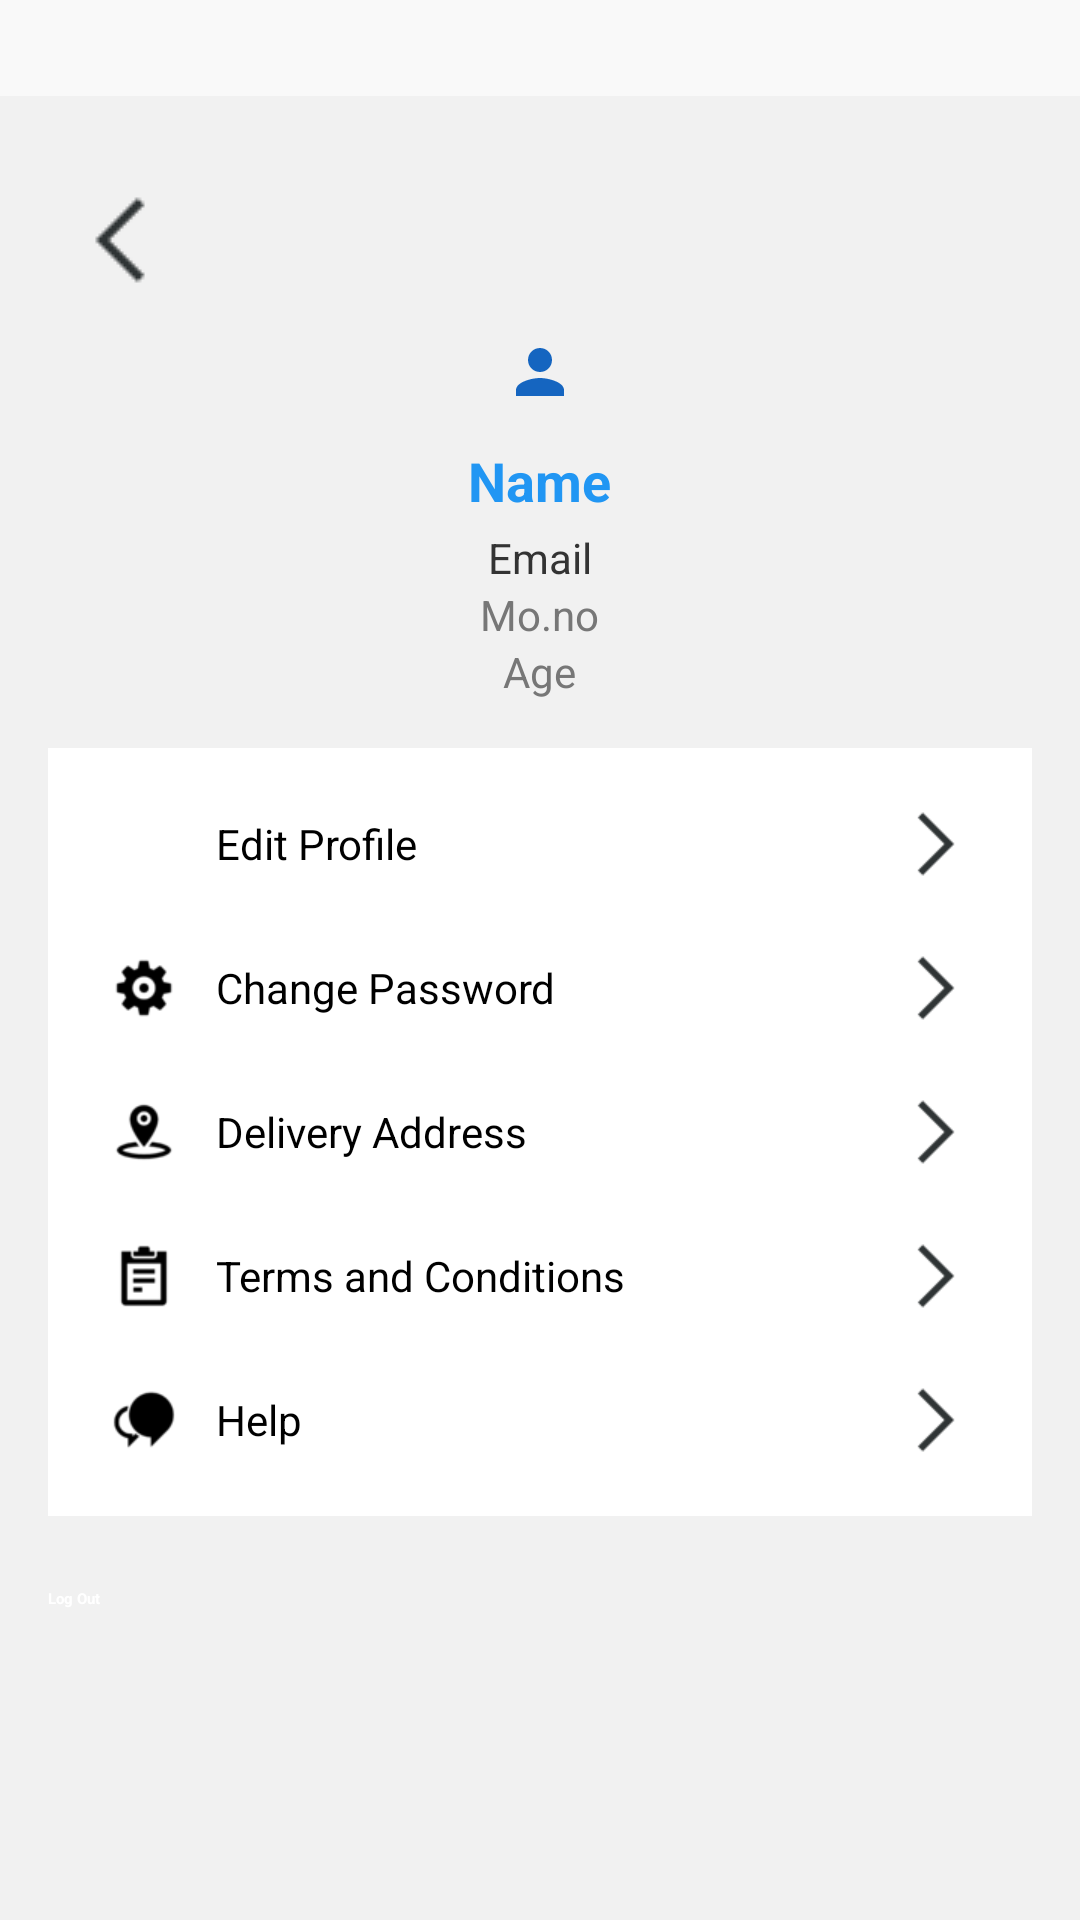

Point at icon controls on the screen. Image size 1080 x 1920, points as point (x, y).
arrow left: point (120, 240)
arrow right: point (936, 844), point (936, 988), point (936, 1132), point (936, 1276), point (936, 1420)
location: point (144, 1132)
person: point (540, 372)
settings: point (144, 988)
